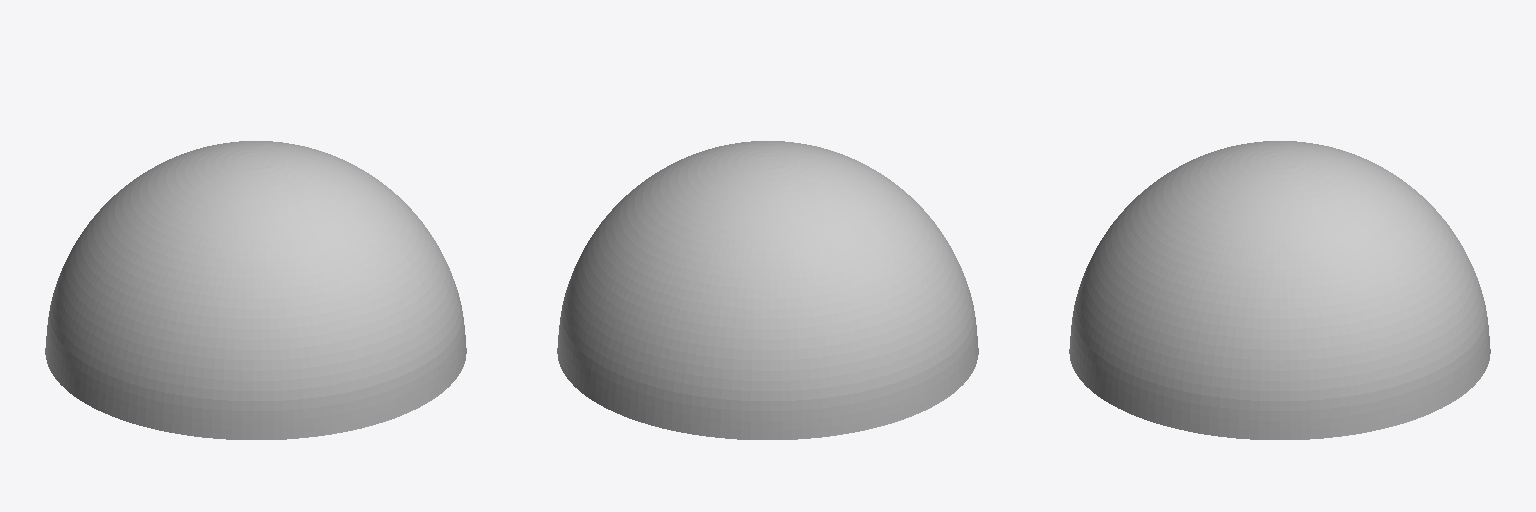
Rendered from skydome5.obj.
3 views of the same model, side by side, from view 1: azimuth 30°, elevation 25°; view 2: azimuth 150°, elevation 25°; view 3: azimuth 270°, elevation 25° (orthographic).
Visible parts, largest first — view 1: Sphere; view 2: Sphere; view 3: Sphere.
Part boxes in pixels (x1,y1,x2,y2): Sphere: (45, 141, 466, 439); Sphere: (557, 141, 978, 439); Sphere: (1069, 141, 1490, 439).
Bounding box in the file's own units: 387 × 194 × 387.